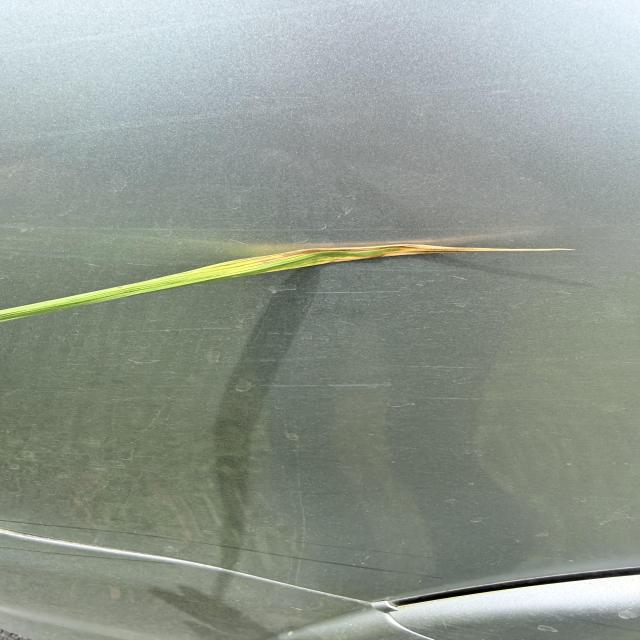Chay bia la: (259, 244, 571, 273)
